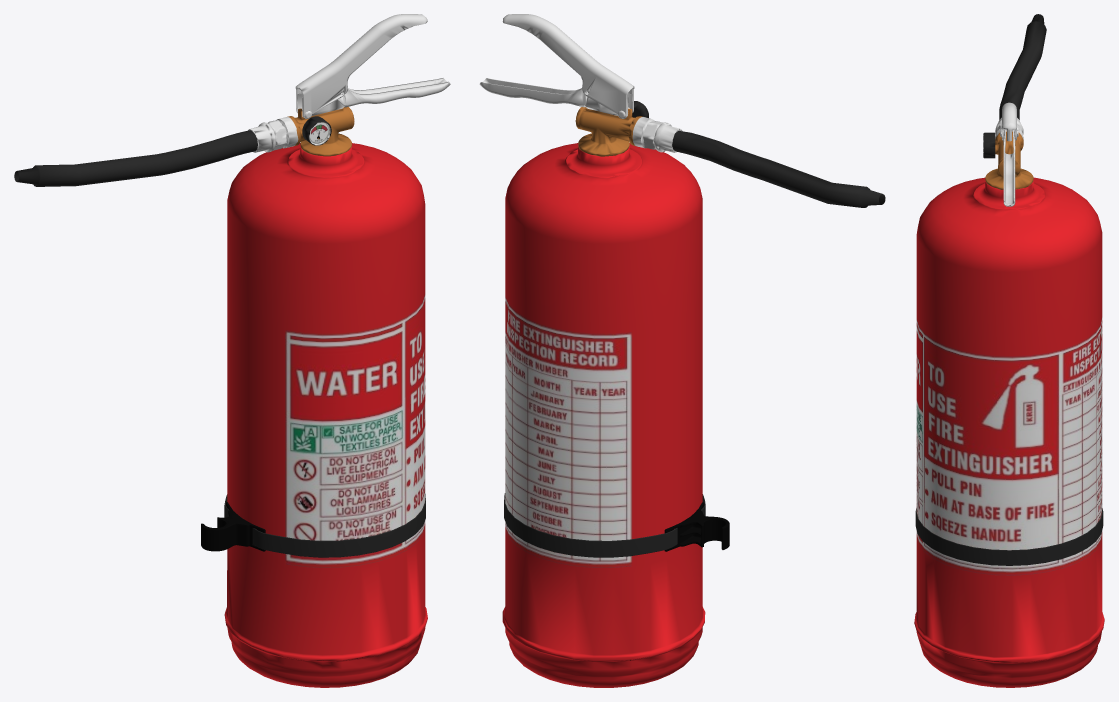
File: fire__extiguisher ACTIVE.fbx
3 renders of one model, left to right at view 1: azimuth 30°, elevation 25°; view 2: azimuth 150°, elevation 25°; view 3: azimuth 270°, elevation 25°, orthographic. The views are drawn at different scales.
Parts seen in each view (by area): view 1: Fire extinguisher, Fire extinguisher.007, Fire extinguisher.001, Fire extinguisher.002, Fire extinguisher.003, Fire extinguisher.005; view 2: Fire extinguisher, Fire extinguisher.007, Fire extinguisher.001, Fire extinguisher.002, Fire extinguisher.003; view 3: Fire extinguisher, Fire extinguisher.002, Fire extinguisher.007, Fire extinguisher.001, Fire extinguisher.005.
Part boxes in pixels (bbox=[...]): Fire extinguisher: bbox=[224, 107, 427, 687]; Fire extinguisher.007: bbox=[14, 119, 289, 186]; Fire extinguisher.001: bbox=[295, 14, 450, 118]; Fire extinguisher.002: bbox=[224, 494, 425, 557]; Fire extinguisher.003: bbox=[201, 502, 265, 551]; Fire extinguisher.005: bbox=[302, 116, 331, 145]; Fire extinguisher: bbox=[502, 107, 705, 687]; Fire extinguisher.007: bbox=[641, 119, 885, 207]; Fire extinguisher.001: bbox=[479, 14, 634, 118]; Fire extinguisher.002: bbox=[504, 493, 705, 557]; Fire extinguisher.003: bbox=[664, 502, 729, 551]; Fire extinguisher: bbox=[914, 127, 1104, 687]; Fire extinguisher.002: bbox=[915, 508, 1103, 565]; Fire extinguisher.007: bbox=[995, 14, 1046, 134]; Fire extinguisher.001: bbox=[1000, 102, 1018, 206]; Fire extinguisher.005: bbox=[983, 132, 995, 158].
Bounding box in the file's own units: 44.29 × 63.07 × 18.67.
Materials: 7 (2 with a texture image).
